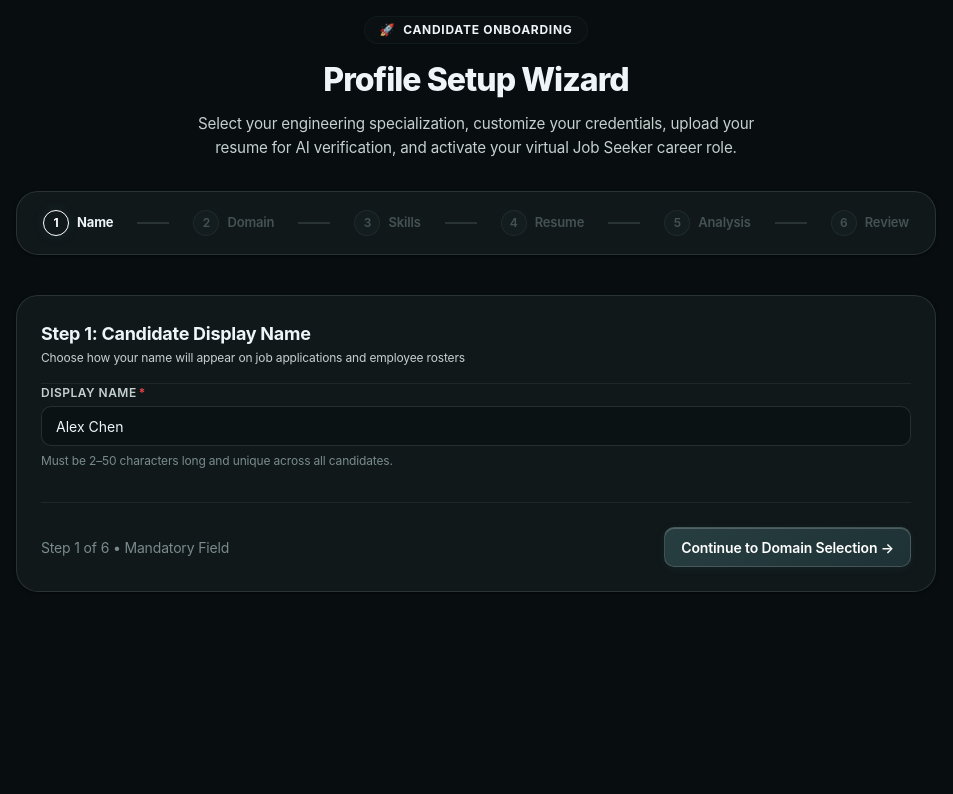
it: ProfileSetupPage Wizard Suite › validates display name and progresses to Step 2 (Domain Selection)
Replace the text in the field labelled "Display Name*" with "Elena Rostova" at (476, 426), box [41,406,911,446]
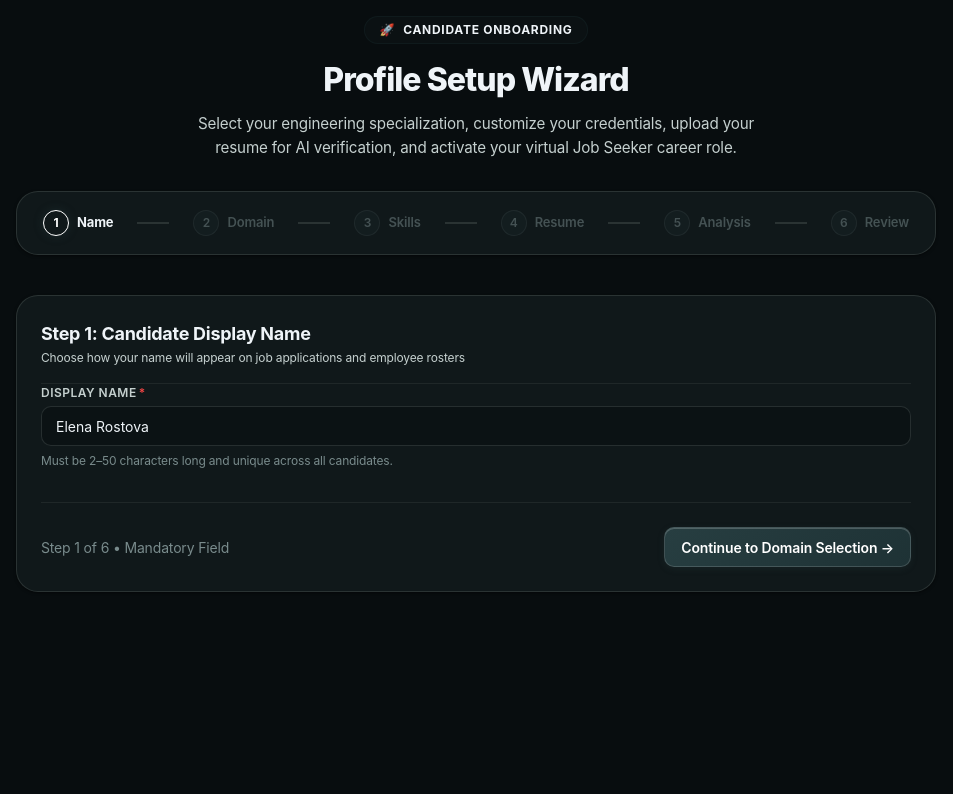
Click the button "Continue to Domain Selection →".
click(788, 547)  # box [664,527,911,567]
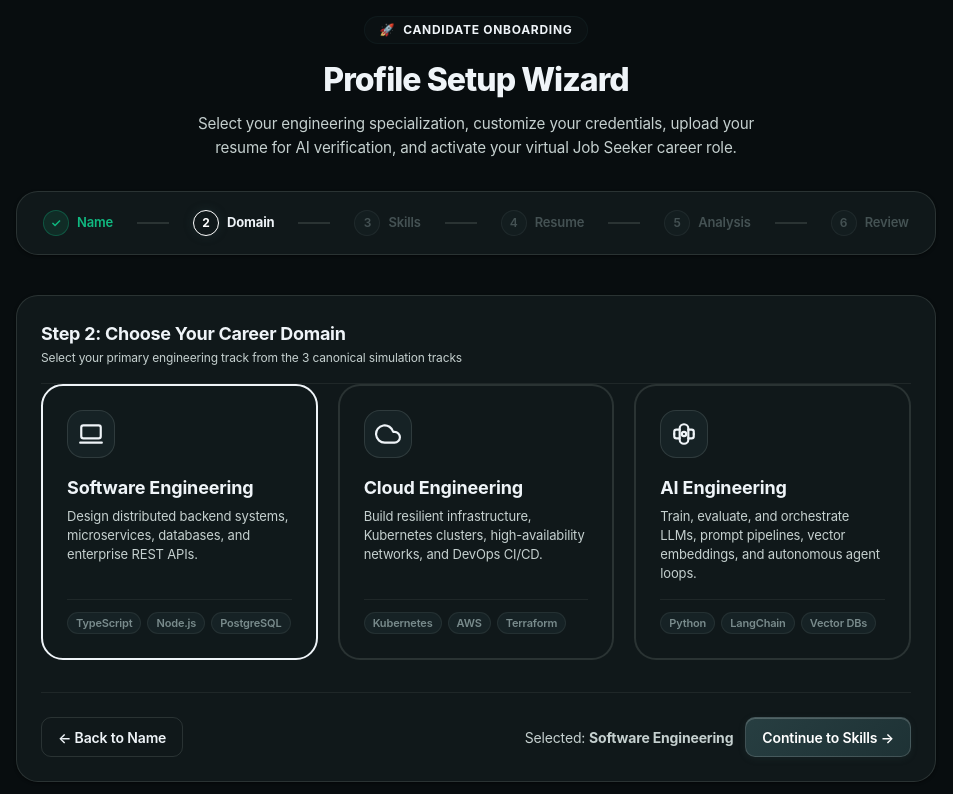
Check: the heading "Step 2: Choose Your Career Domain" is shown, box [41,323,346,344]
Check: the heading "Software Engineering" is shown, box [67,477,254,498]
Check: the heading "Cloud Engineering" is shown, box [364,477,523,498]
